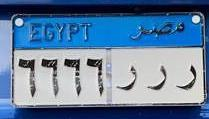6: (61, 54, 82, 99), (84, 54, 105, 98), (39, 54, 59, 99), (17, 56, 36, 101)
raa: (174, 62, 199, 95), (143, 64, 170, 94), (114, 63, 139, 93)
